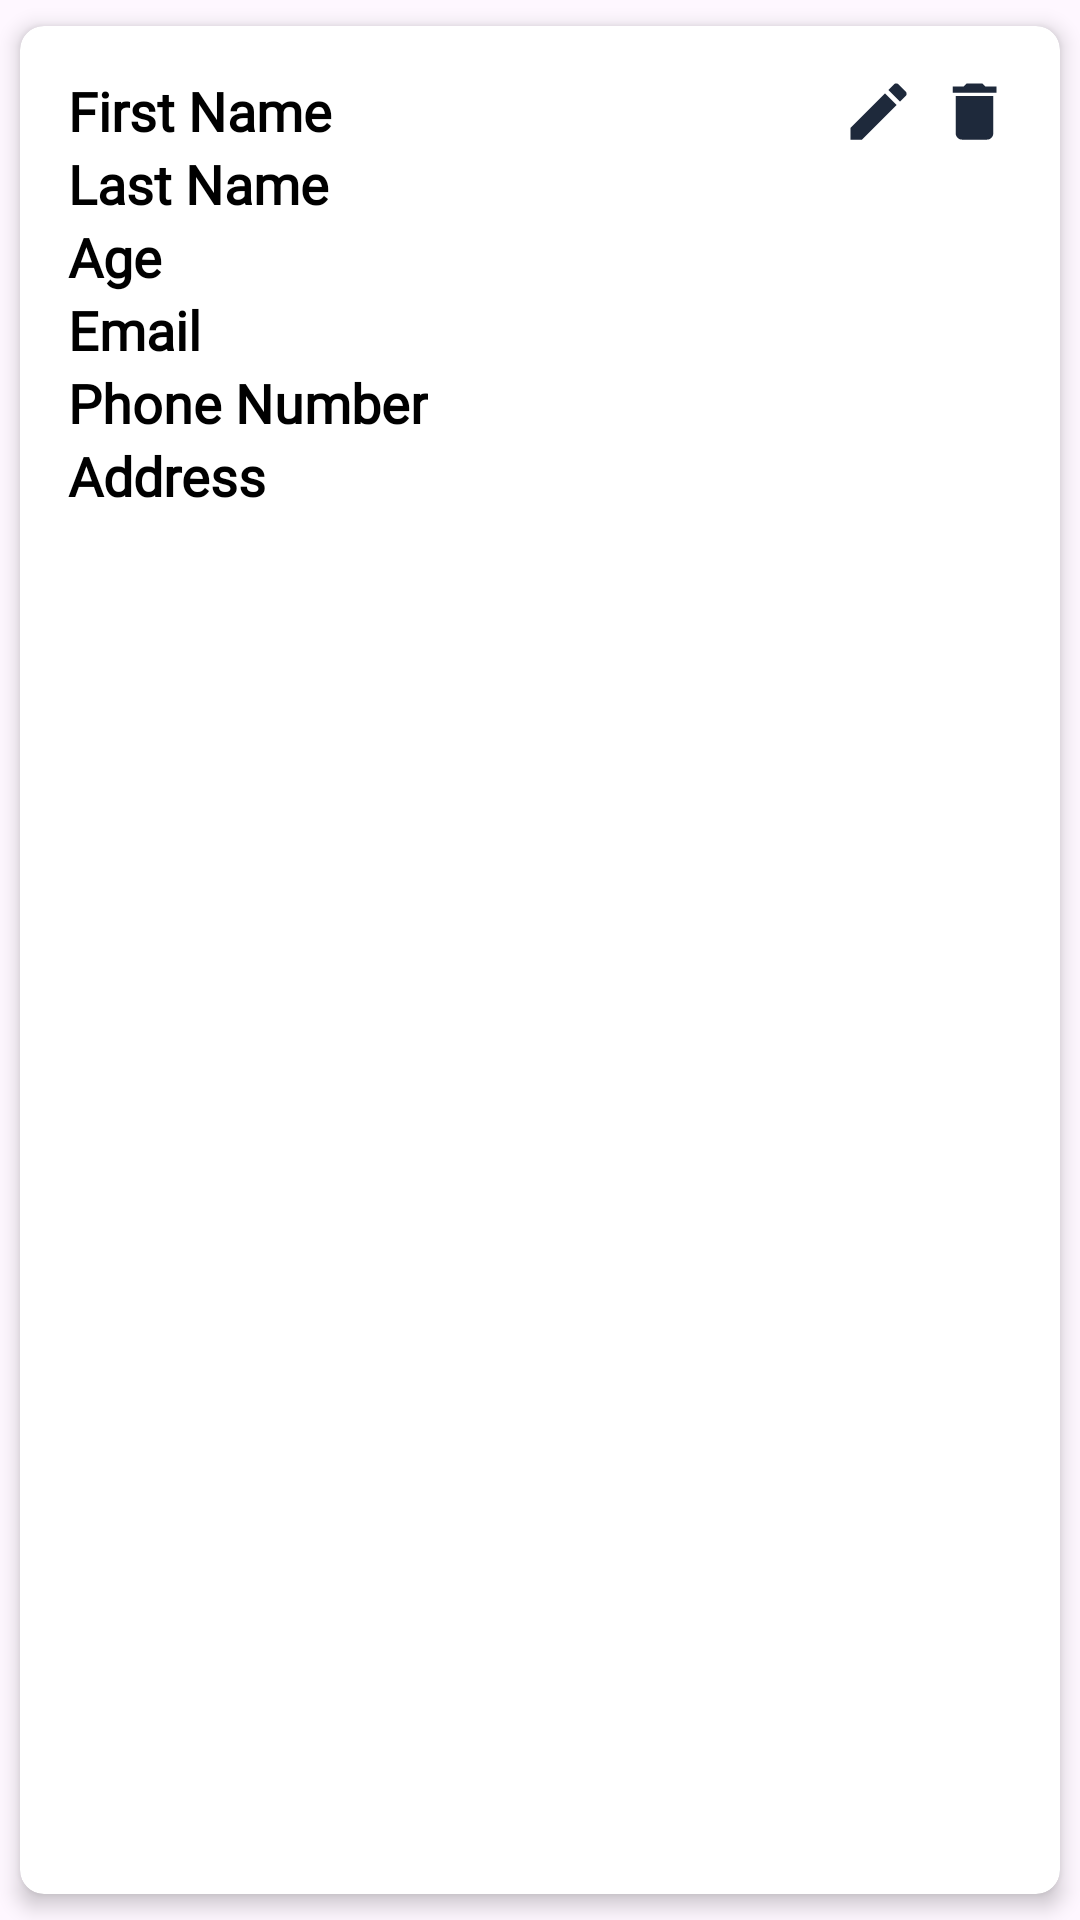

Screen size 1080×1920. Icon name, then its box in pixels as (x1, y1, x2, y2):
delete: (952, 83, 997, 140)
edit: (850, 83, 907, 140)
